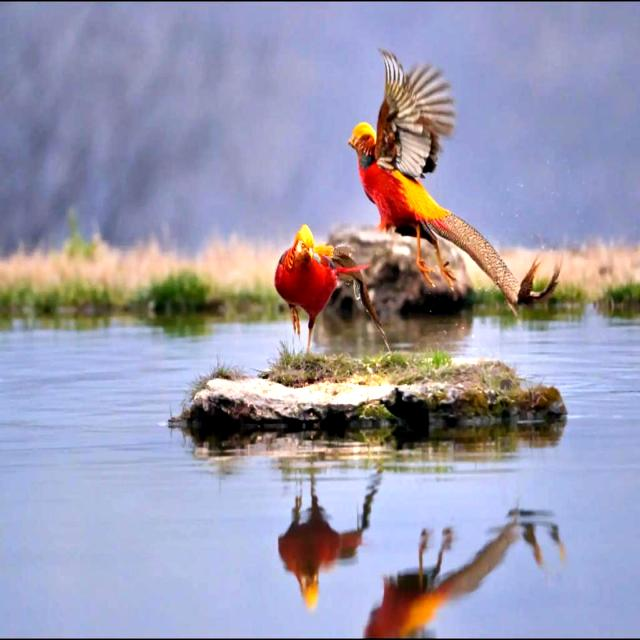Chrysolophus pictus feather: (431, 214, 559, 316)
